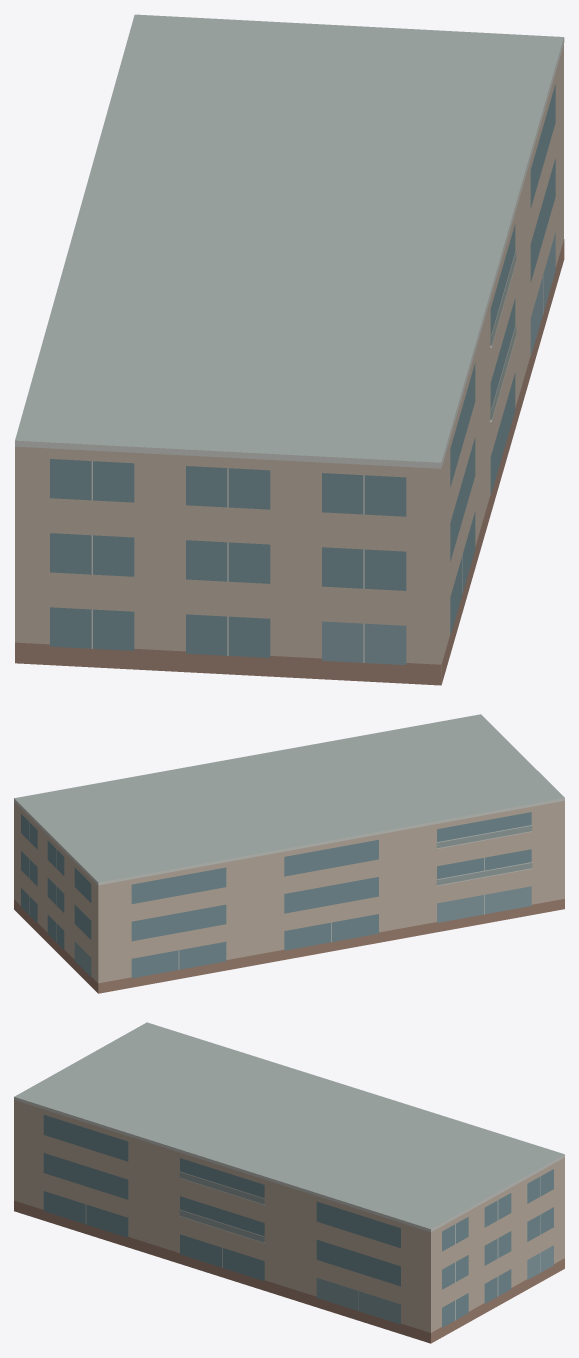
Rendered from survey-upis-32943374.glb.
3 views of the same model, one above another, from view 1: azimuth 30°, elevation 25°; view 2: azimuth 150°, elevation 25°; view 3: azimuth 270°, elevation 25° (orthographic). The views are drawn at different scales.
Visible parts, largest first — view 1: survey-upis-32943374.tmp; view 2: survey-upis-32943374.tmp; view 3: survey-upis-32943374.tmp.
Part boxes in pixels (x1,y1,x2,y2): survey-upis-32943374.tmp: (15, 14, 564, 685); survey-upis-32943374.tmp: (14, 714, 564, 993); survey-upis-32943374.tmp: (14, 1022, 564, 1343).
Size of the model in its own units: 35.51 by 9.15 by 39.94.
